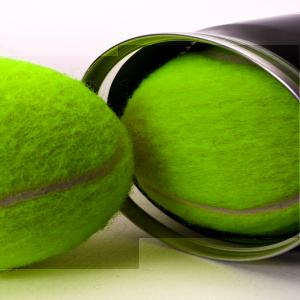TennisBall: (119, 46, 300, 240), (1, 57, 141, 271)
